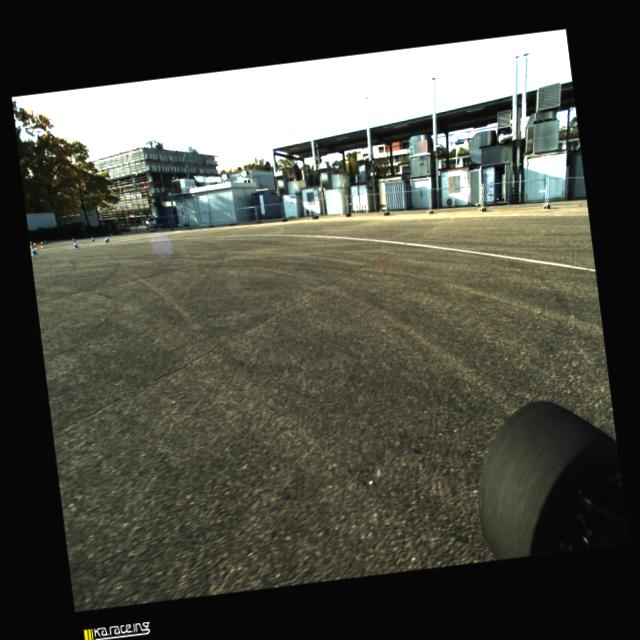blue_cone: (31, 245, 38, 255), (74, 240, 78, 247), (104, 235, 108, 242), (72, 236, 76, 242), (106, 234, 109, 240), (44, 238, 47, 244), (91, 236, 94, 240)
yellow_cone: (39, 240, 44, 248), (34, 242, 38, 249), (29, 241, 32, 247)
